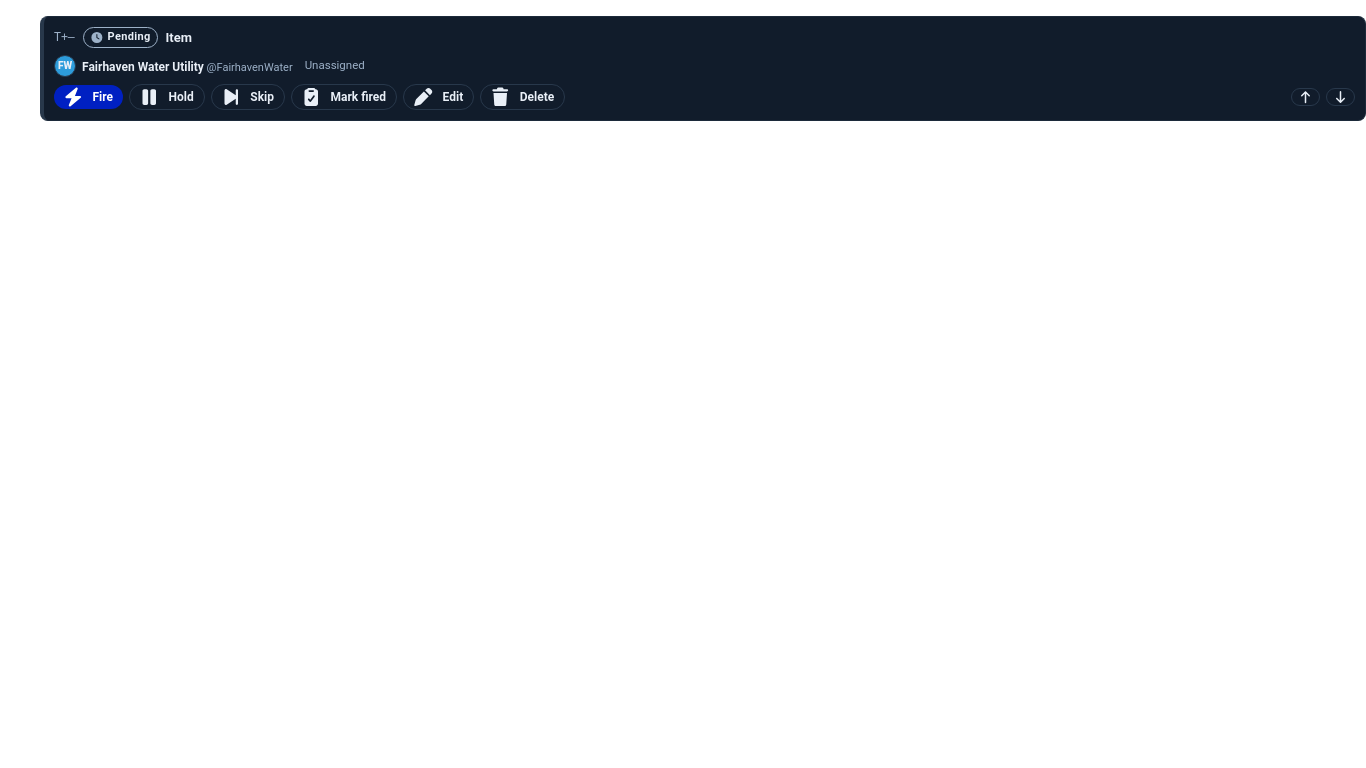
Scenario: RunSheetRow — "Marked fired" (DF-36) › asks first; Cancel changes nothing, confirming marks it once
Click the button with aria-label "Mark fired Item".
click(344, 97)  # box [291,84,397,110]
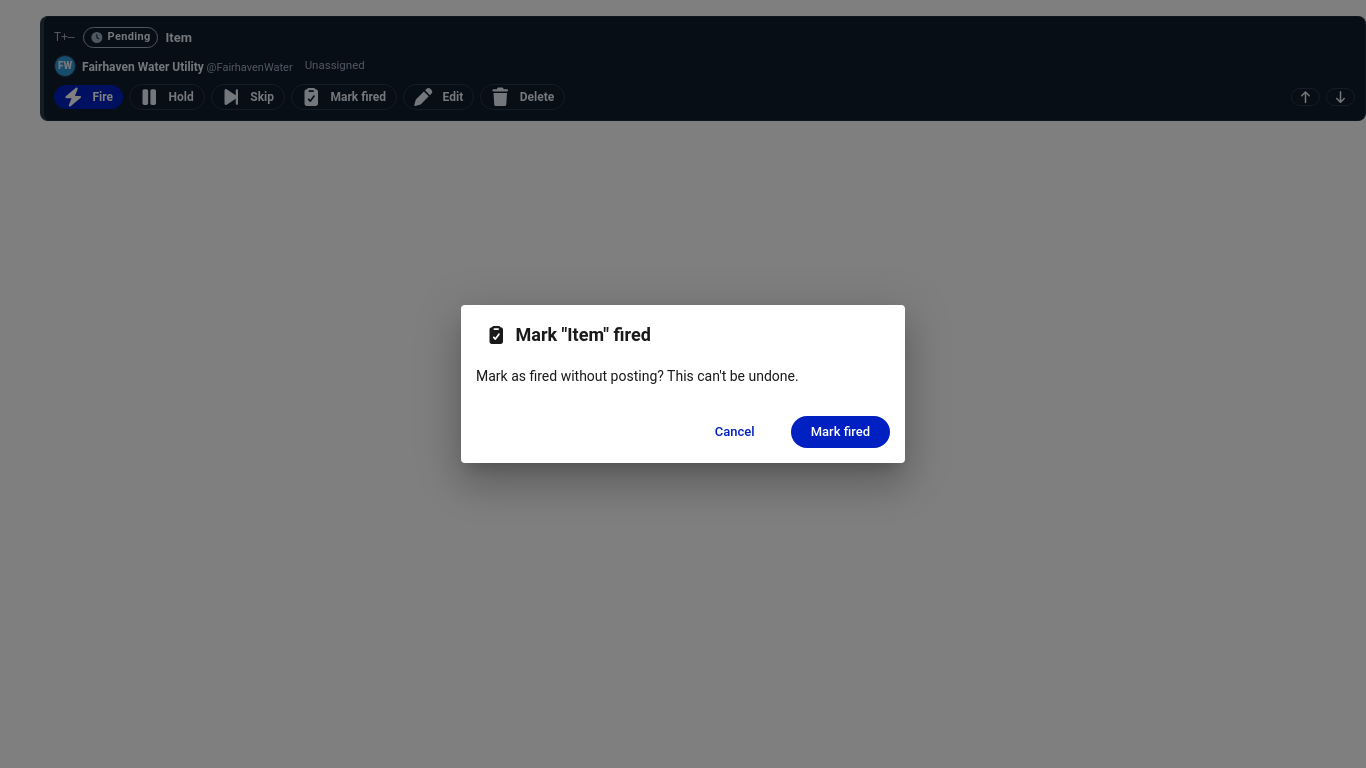
Check: the dialog shows "Mark as fired without posting? This can't be undone.", box [476,368,799,384]
Click the button "Cancel".
click(735, 432)  # box [695,416,775,448]
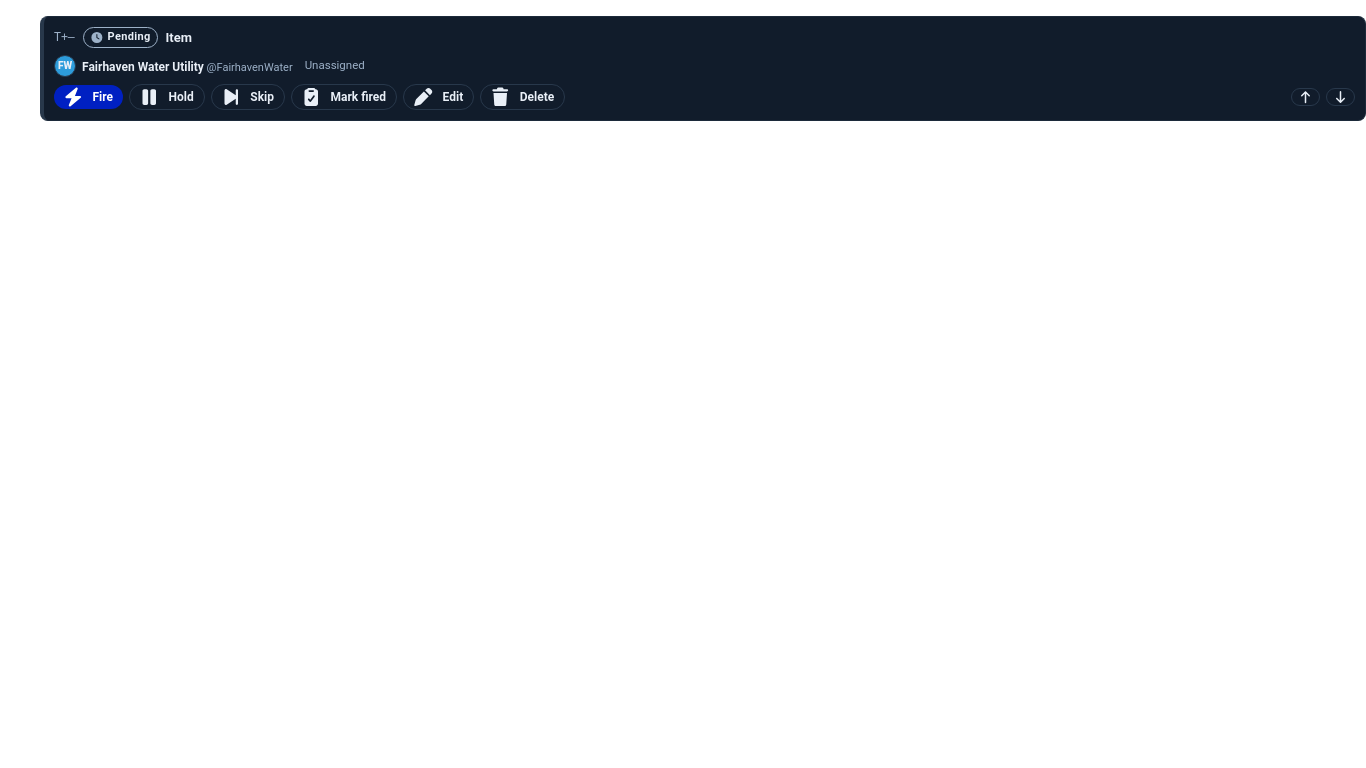
Check: the dialog is gone
Click the button with aria-label "Mark fired Item".
click(344, 97)  # box [291,84,397,110]
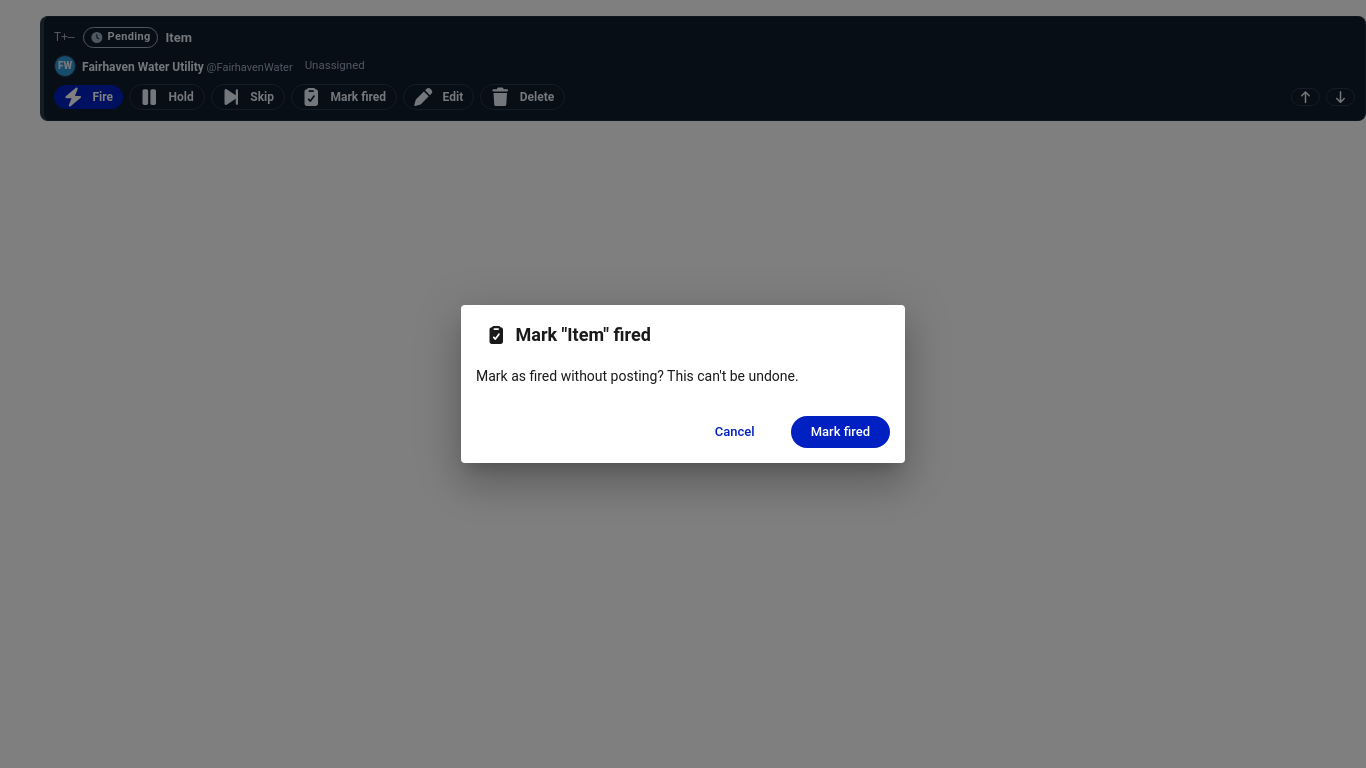
Click the button "Mark fired".
click(840, 432)  # box [791,416,890,448]
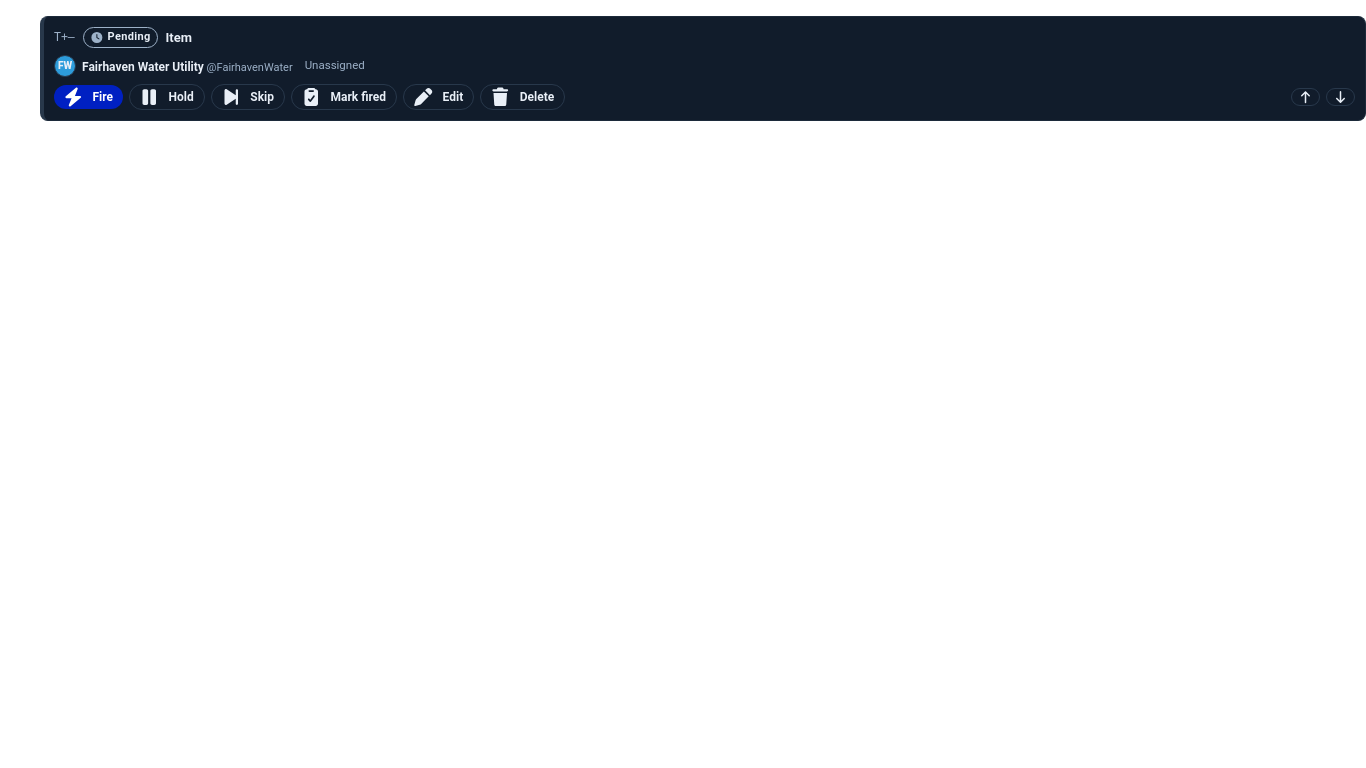
Check: the dialog is gone
